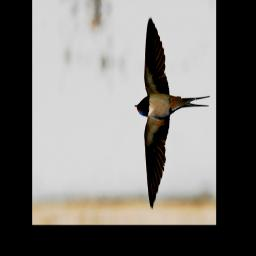Swallow: (134, 13, 211, 212)
